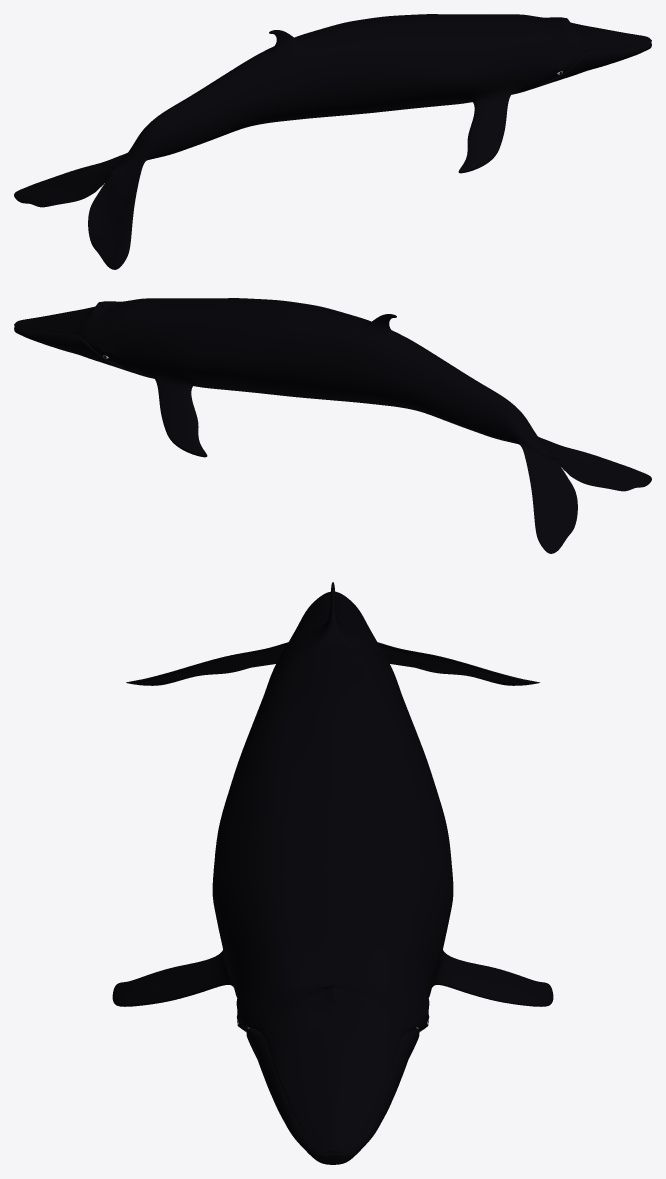
Rendered from 9.RorcualBryde.glb.
3 renders of one model, top to bottom at view 1: azimuth 30°, elevation 25°; view 2: azimuth 150°, elevation 25°; view 3: azimuth 270°, elevation 25°, orthographic. The views are drawn at different scales.
Parts seen in each view (by area): view 1: Cube; view 2: Cube; view 3: Cube.
Part boxes in pixels (x1=…): Cube: x1=14, y1=14, x2=651, y2=269; Cube: x1=14, y1=298, x2=651, y2=553; Cube: x1=112, y1=582, x2=553, y2=1164.
Bounding box in the file's own units: 14.09 × 3.51 × 4.59.
Materials: 2 (2 with a texture image).
